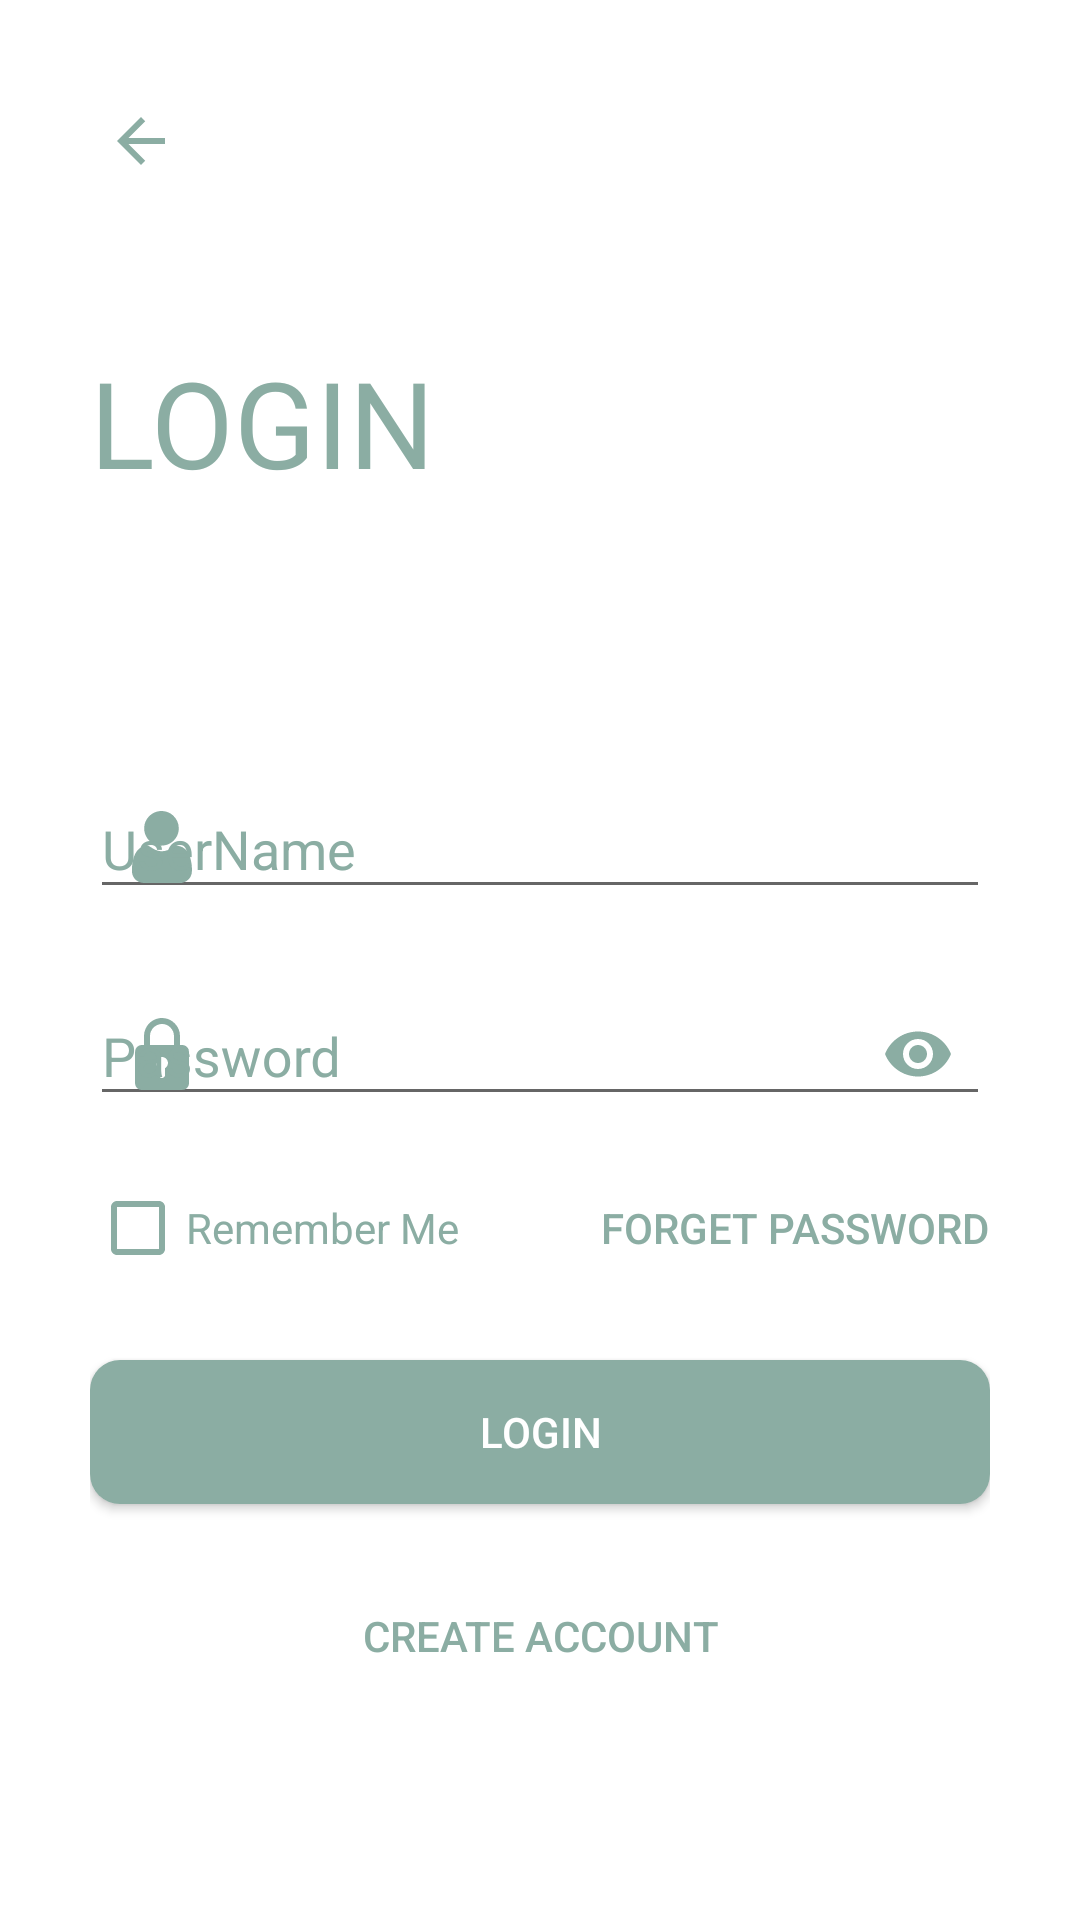

Icon click points for this 1080 × 1920 phone screenshot, format (x=x, y=y):
arrow back: (x=141, y=141)
